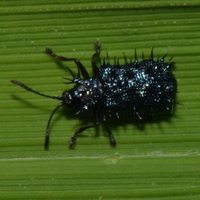insect: (11, 42, 176, 149)
